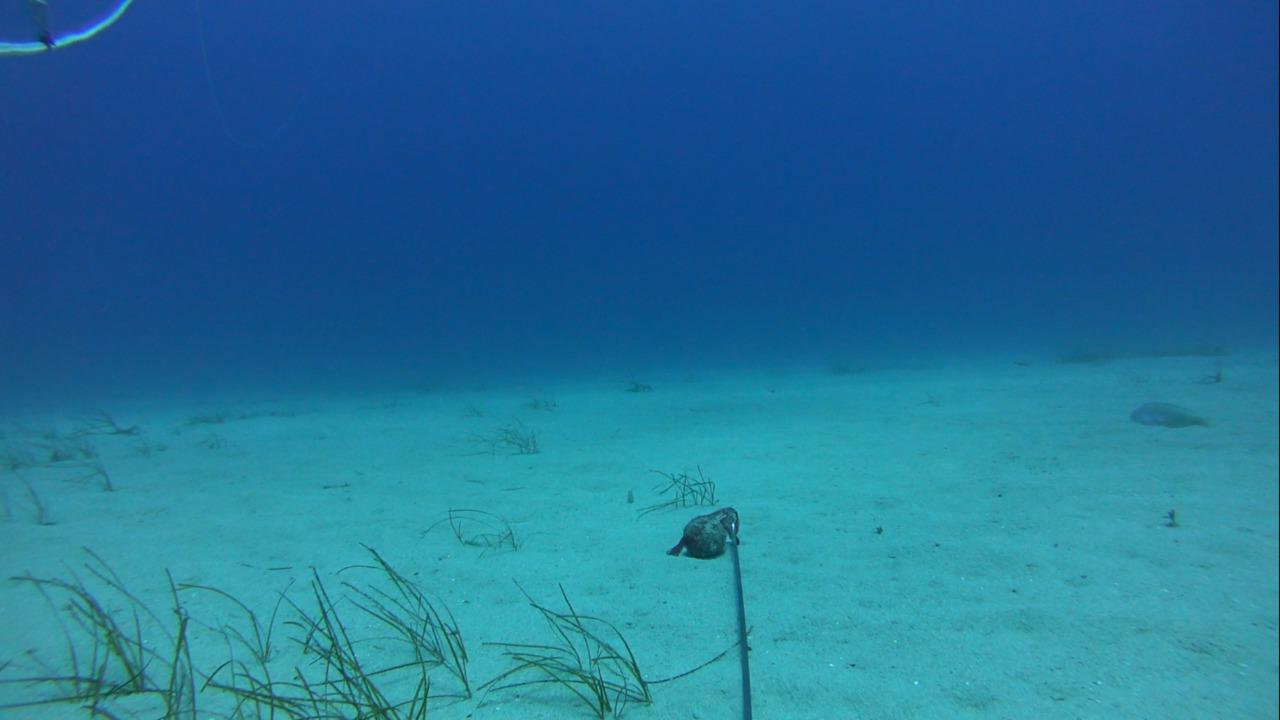raor: (1119, 390, 1216, 438)
